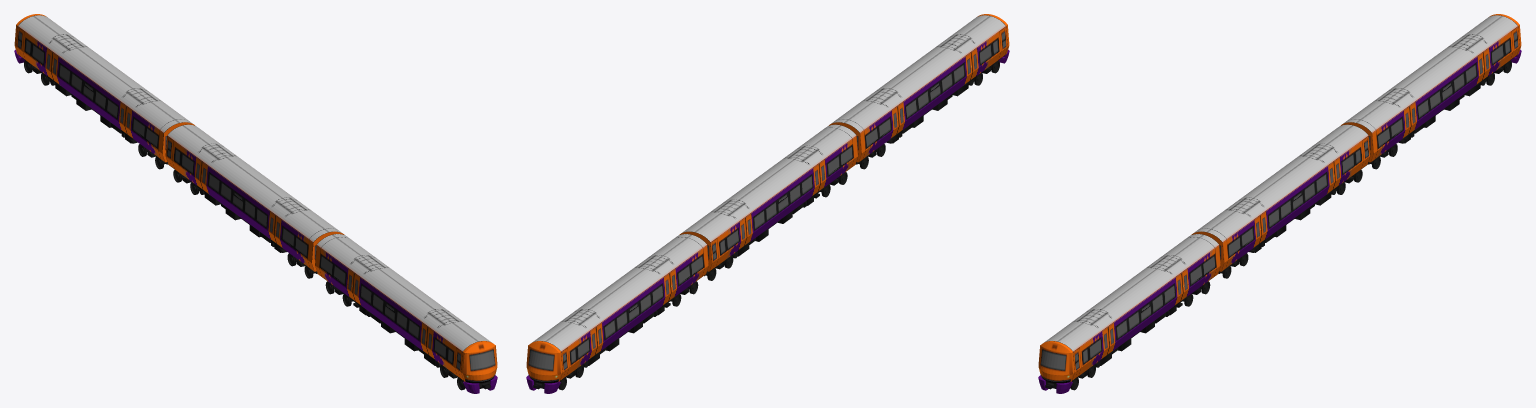
File: Class172_3.fbx
3 renders of one model, left to right at view 1: azimuth 30°, elevation 25°; view 2: azimuth 150°, elevation 25°; view 3: azimuth 330°, elevation 25°, orthographic.
Visible parts, largest first — view 1: Body.002, Body.001, Body, Head, undercarriage.002, undercarriage.001, undercarriage; view 2: Body.002, Body, Body.001, Head.001, undercarriage.002, undercarriage, undercarriage.001; view 3: Body.002, Body.001, Body, Head, undercarriage.002, undercarriage.001, undercarriage.
Boxes of the visible parts, x1,y1,x2,y2 form: Body.002: (165,124,342,271); Body.001: (16,15,192,161); Body: (315,234,491,380); Head: (461,341,497,393); undercarriage.002: (173,170,317,278); undercarriage.001: (24,60,167,169); undercarriage: (325,281,465,390); Body.002: (681,124,858,271); Body: (831,15,1007,161); Body.001: (532,234,708,380); Head.001: (526,341,562,393); undercarriage.002: (704,172,847,280); undercarriage: (856,60,999,169); undercarriage.001: (558,281,698,390); Body.002: (1193,124,1370,271); Body.001: (1343,15,1519,161); Body: (1044,234,1220,380); Head: (1038,341,1074,393); undercarriage.002: (1218,170,1362,278); undercarriage.001: (1368,60,1511,169); undercarriage: (1070,281,1210,390).
Size of the model in its own units: 269 by 369 by 6268.
1 material, 1 textured.
